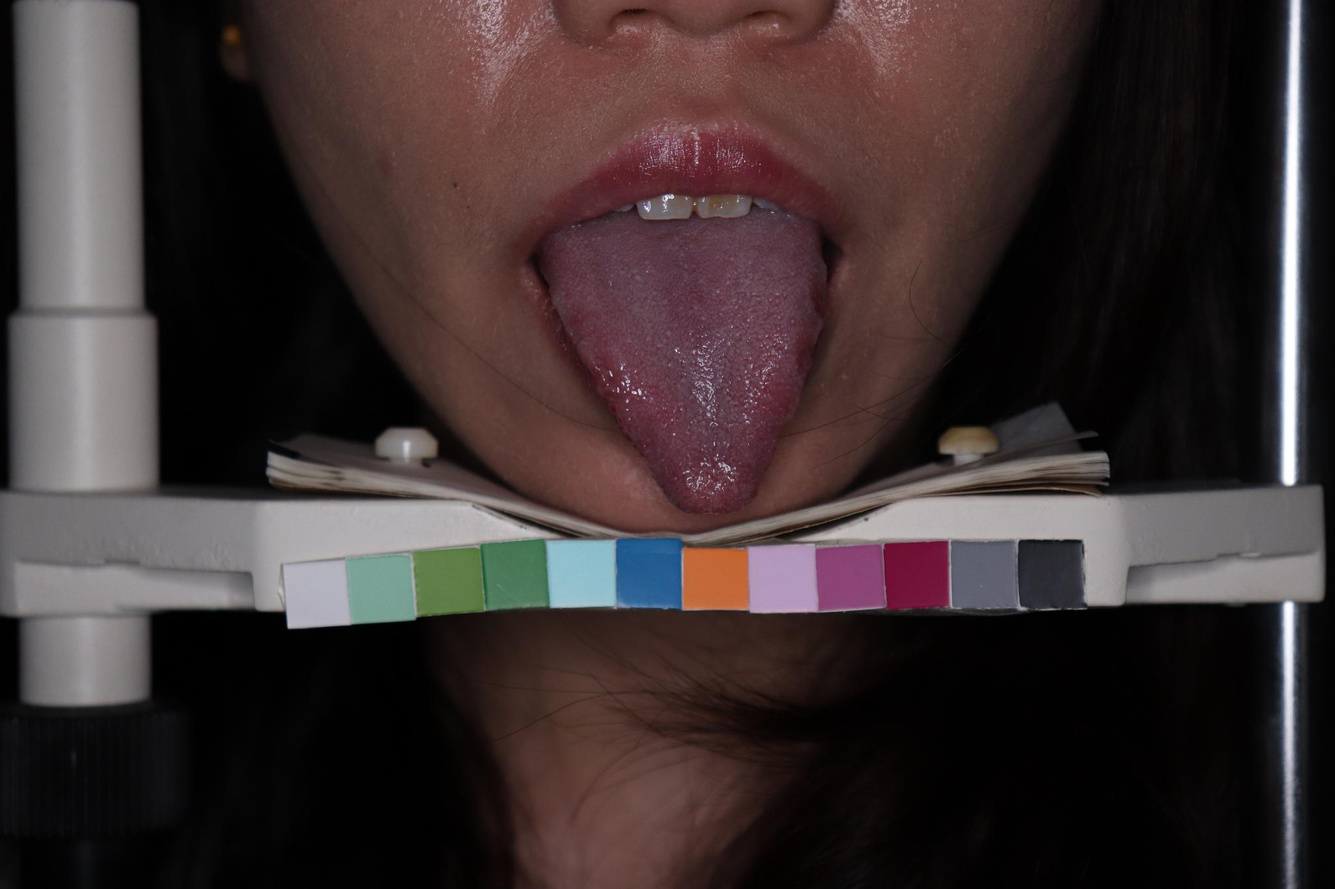baitaishe: (539, 219, 830, 516)
chihenshe: (791, 266, 830, 385)
